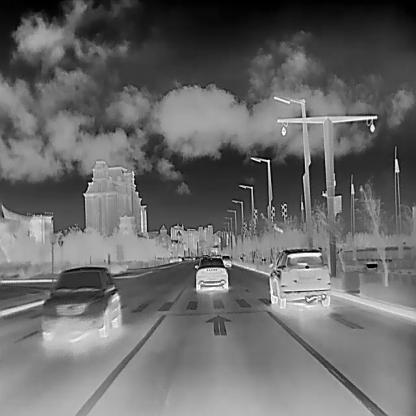car: (40, 266, 121, 341), (268, 246, 330, 308), (193, 255, 228, 293), (220, 255, 231, 267)
